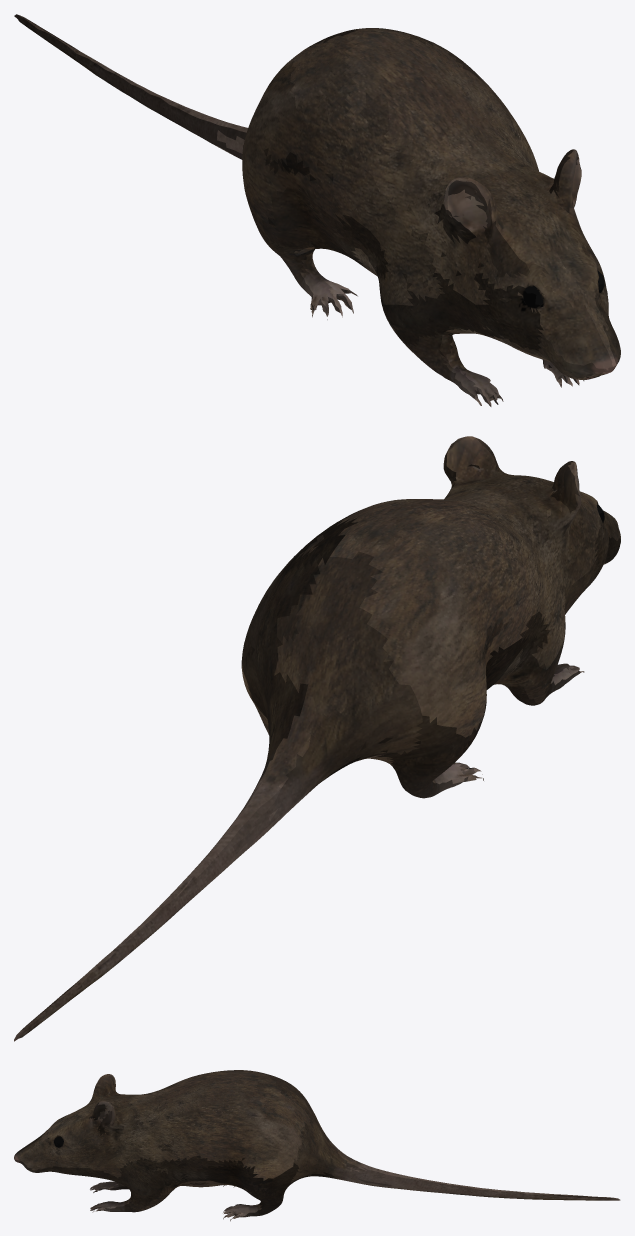
The model's file is street_rat.obj.
3 renders of one model, top to bottom at view 1: azimuth 30°, elevation 25°; view 2: azimuth 150°, elevation 25°; view 3: azimuth 270°, elevation 25°, orthographic. The views are drawn at different scales.
Parts seen in each view (by area): view 1: mesh; view 2: mesh; view 3: mesh.
Boxes of the visible parts, <box> form: mesh: <box>14,14,620,406</box>; mesh: <box>14,436,620,1041</box>; mesh: <box>14,1070,620,1221</box>.
Size of the model in its own units: 13.25 by 14 by 61.54.
Materials: 1 (1 with a texture image).
